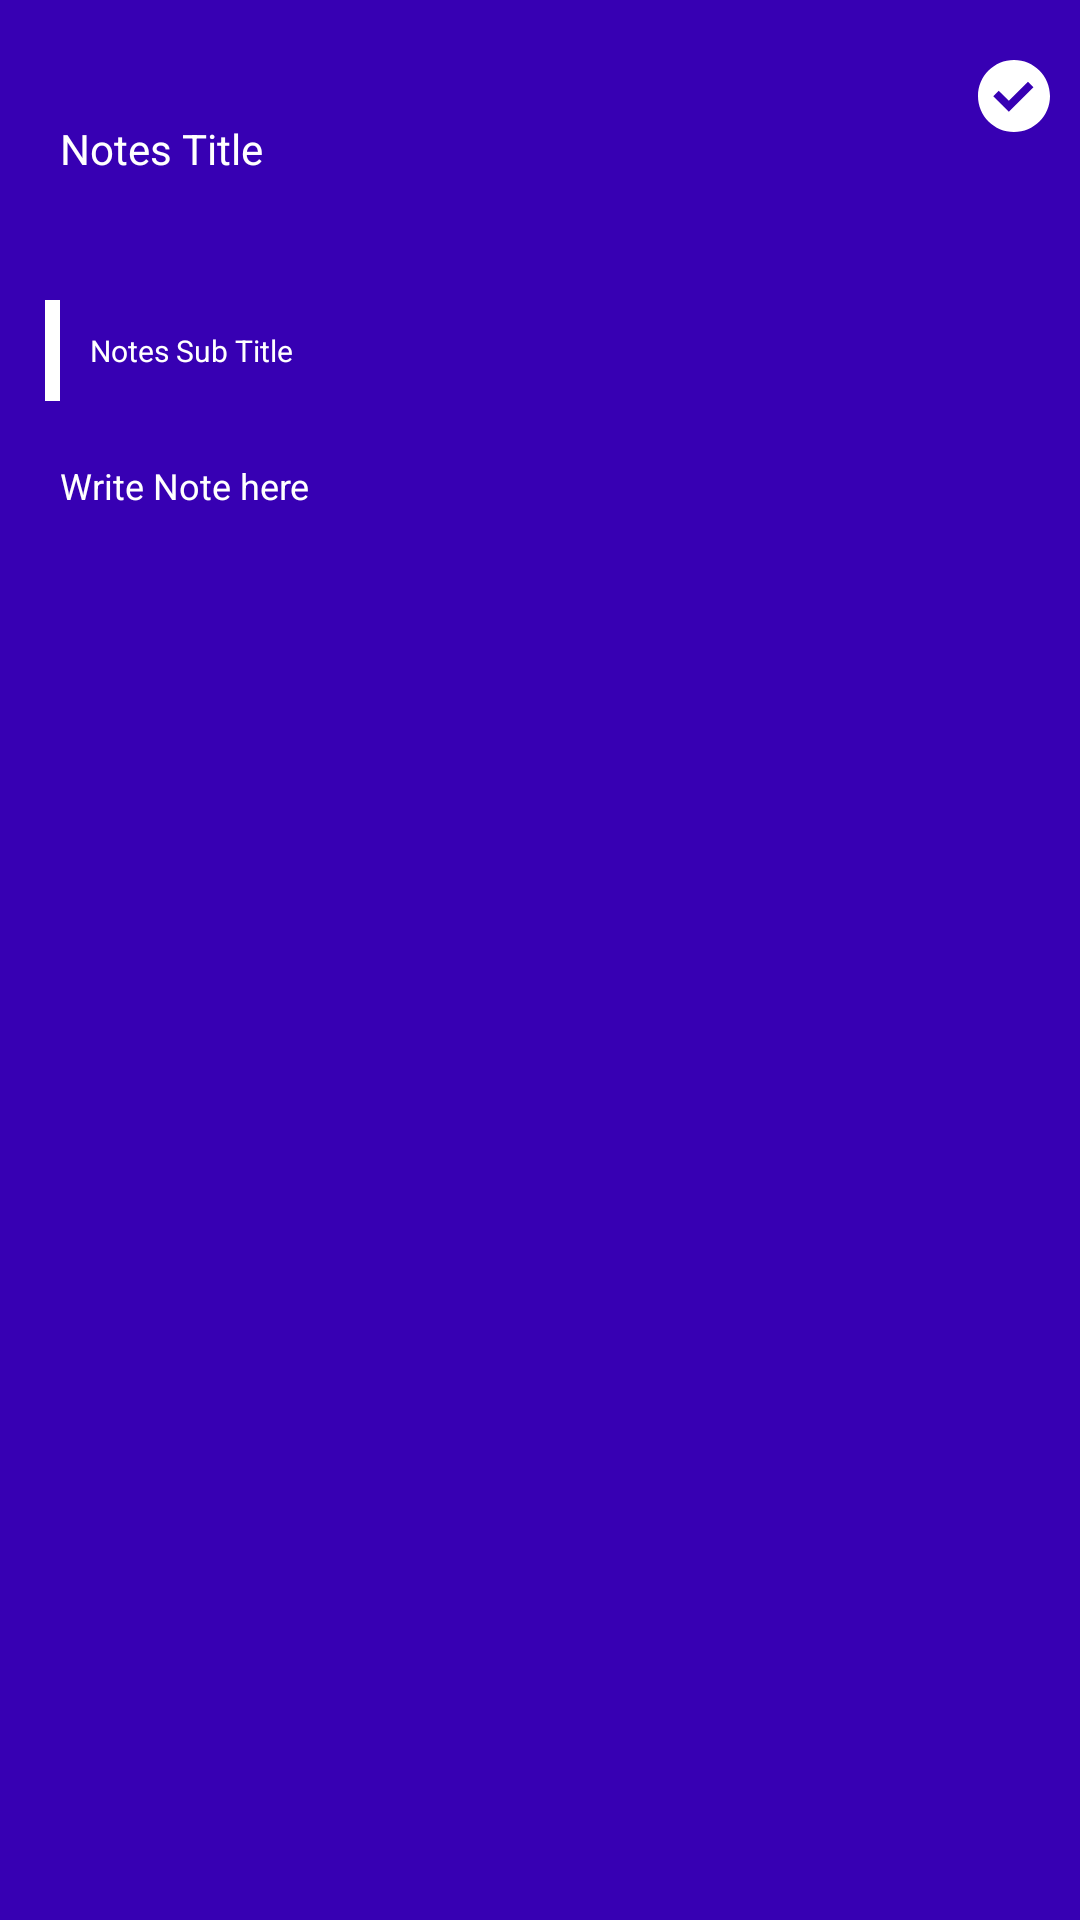

Where icons sit on this 1080w x 1920h app screen, as (x1,y1,x2,y2):
tick: (978,60,1050,132)
